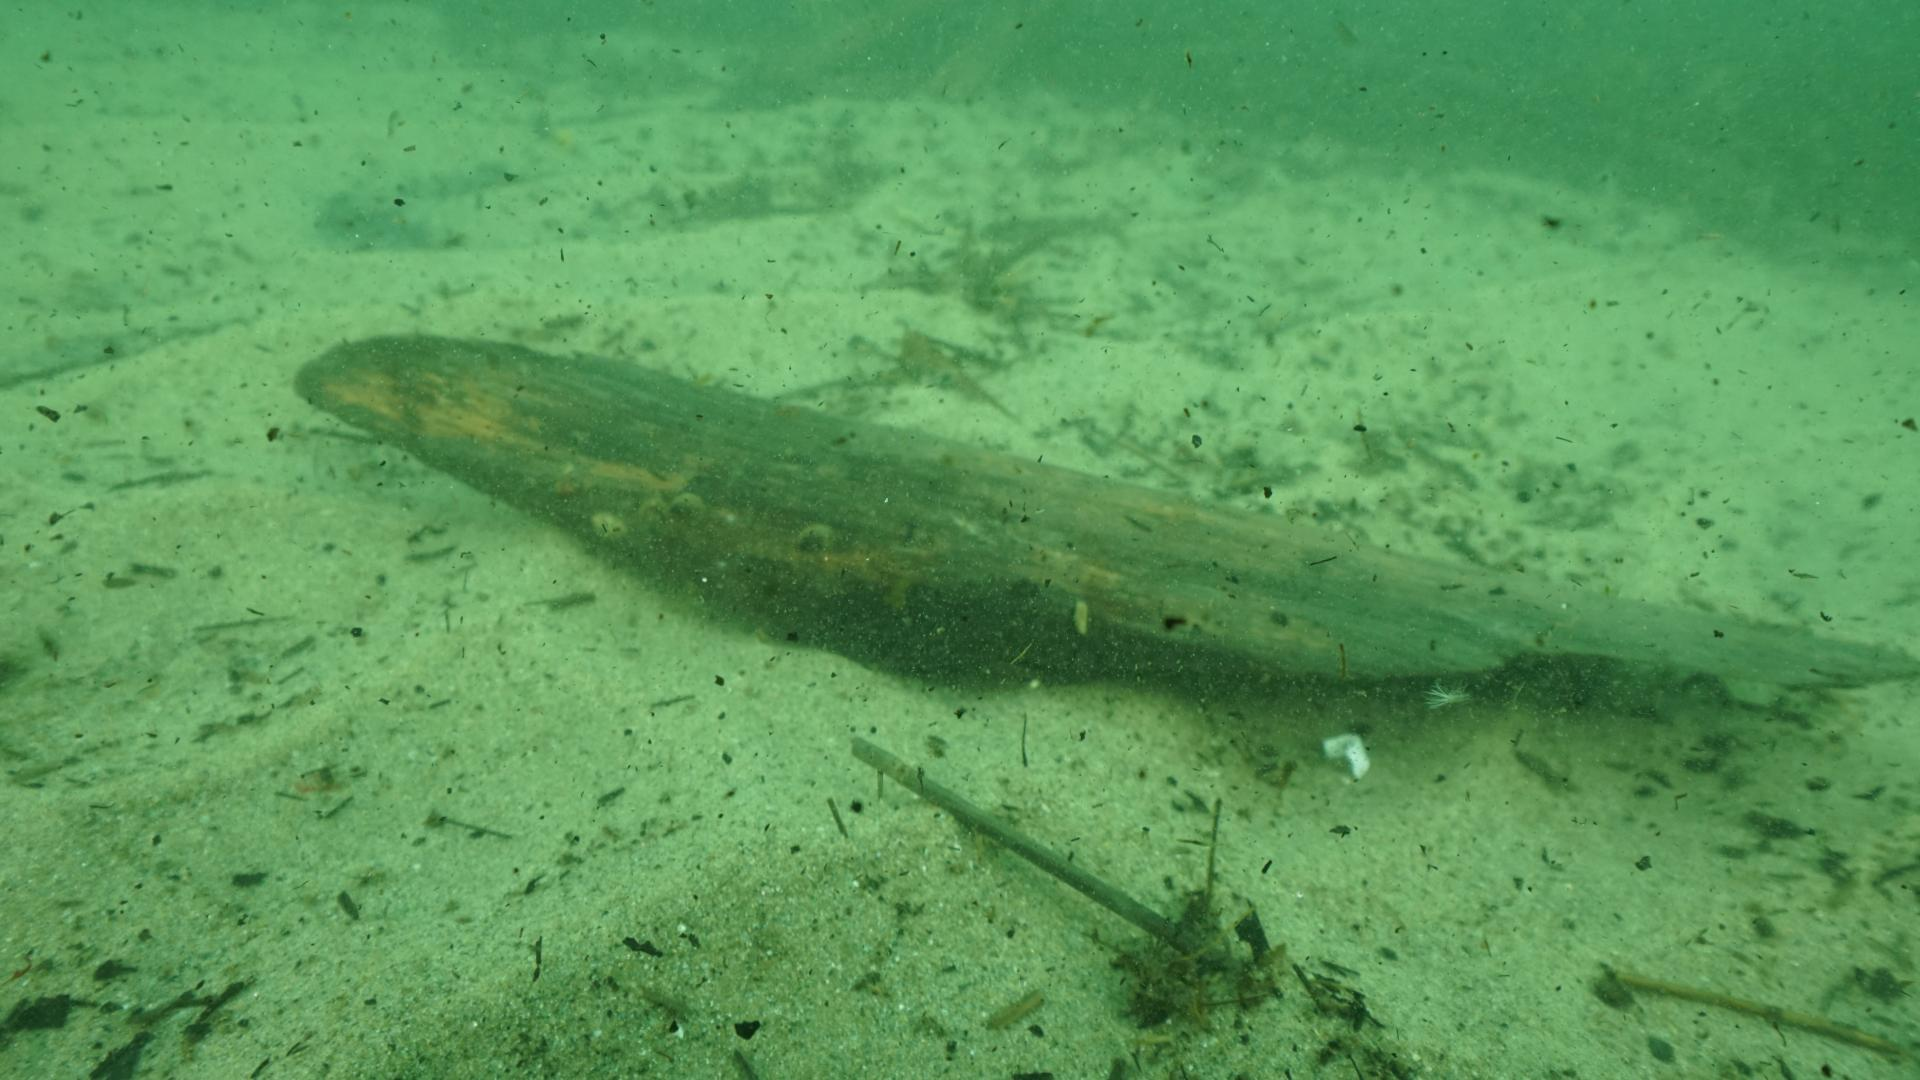wood: (293, 334, 1920, 688)
